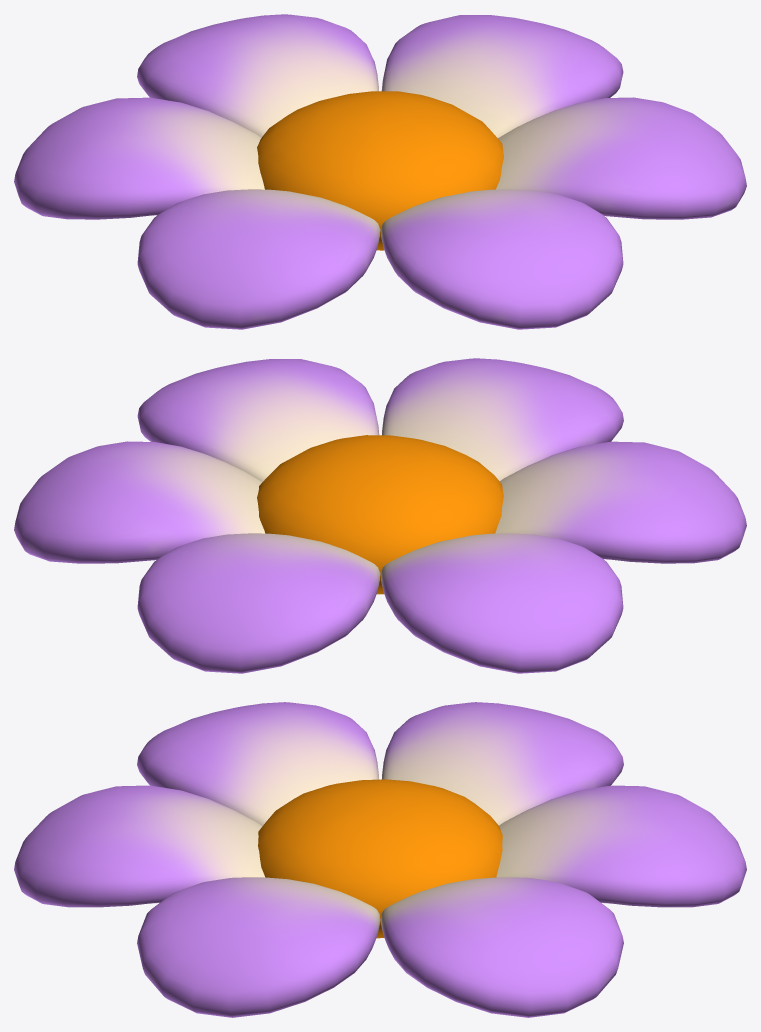
Rendered from hoa3.fbx.
3 views of the same model, one above another, from view 1: azimuth 30°, elevation 25°; view 2: azimuth 150°, elevation 25°; view 3: azimuth 270°, elevation 25° (orthographic).
Parts seen in each view (by area): view 1: pasted__polySurface75, polySurface76, polySurface21, polySurface77, polySurface75, pasted__polySurface74, polySurface74; view 2: pasted__polySurface74, polySurface75, polySurface21, polySurface74, polySurface76, pasted__polySurface75, polySurface77; view 3: polySurface77, polySurface74, polySurface21, pasted__polySurface74, pasted__polySurface75, polySurface76, polySurface75.
Part boxes in pixels (x1,y1,x2,y2): pasted__polySurface75: [380, 189, 623, 329]; polySurface76: [137, 189, 380, 329]; polySurface21: [257, 91, 503, 250]; polySurface77: [496, 97, 746, 219]; polySurface75: [14, 97, 264, 219]; pasted__polySurface74: [137, 14, 378, 137]; polySurface74: [381, 15, 623, 137]; pasted__polySurface74: [137, 533, 380, 673]; polySurface75: [380, 533, 623, 673]; polySurface21: [257, 435, 503, 594]; polySurface74: [14, 441, 265, 563]; polySurface76: [495, 441, 746, 563]; pasted__polySurface75: [382, 358, 623, 481]; polySurface77: [137, 359, 379, 481]; polySurface77: [137, 877, 380, 1017]; polySurface74: [380, 877, 623, 1017]; polySurface21: [258, 779, 502, 938]; pasted__polySurface74: [496, 785, 746, 907]; pasted__polySurface75: [14, 785, 265, 907]; polySurface76: [137, 702, 379, 825]; polySurface75: [381, 702, 623, 825].
Bounding box in the file's own units: 76.09 × 15.1 × 83.55.
Materials: 1 (1 with a texture image).
